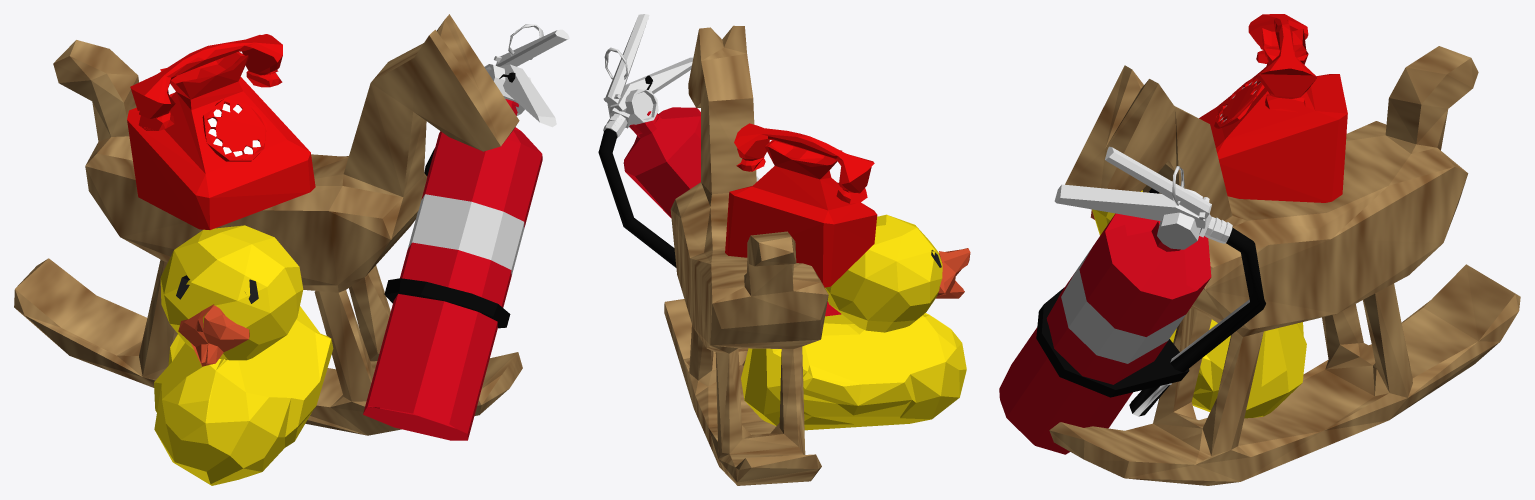
The model's file is dora.glb.
The picture shows the model from 3 angles, left to right: view 1: azimuth 30°, elevation 25°; view 2: azimuth 150°, elevation 25°; view 3: azimuth 270°, elevation 25°; orthographic projection. The views are drawn at different scales.
Parts seen in each view (by area): view 1: wooden horse.001, fire extinguisher.001, duck.001, telephone.001; view 2: wooden horse.001, duck.001, telephone.001, fire extinguisher.001; view 3: wooden horse.001, fire extinguisher.001, telephone.001, duck.001.
Part boxes in pixels (x1,y1,x2,y2): wooden horse.001: (14,14,522,435); fire extinguisher.001: (363,24,569,440); duck.001: (154,225,333,485); telephone.001: (127,34,315,229); wooden horse.001: (664,25,828,485); duck.001: (741,214,970,430); telephone.001: (725,123,877,287); fire extinguisher.001: (598,14,841,316); wooden horse.001: (1049,46,1520,485); fire extinguisher.001: (999,146,1265,454); telephone.001: (1199,14,1347,202); duck.001: (1090,190,1306,418).
Size of the model in its own units: 0.9161 by 0.8965 by 1.02.
Materials: 10 (1 with a texture image).
